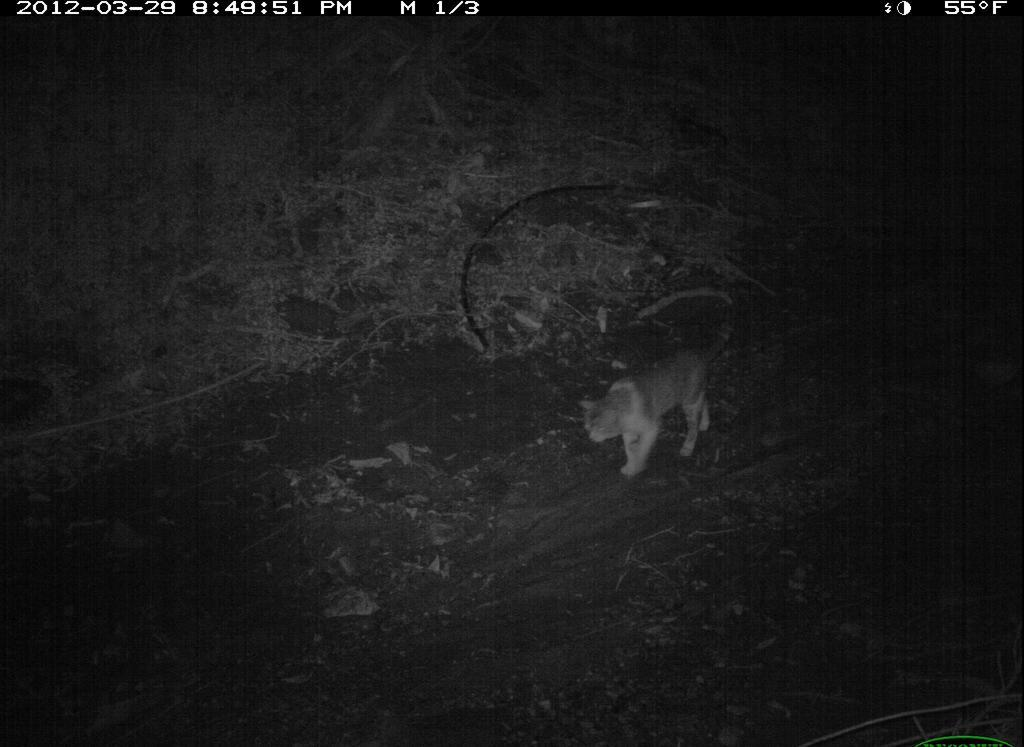cat: (584, 283, 730, 491)
